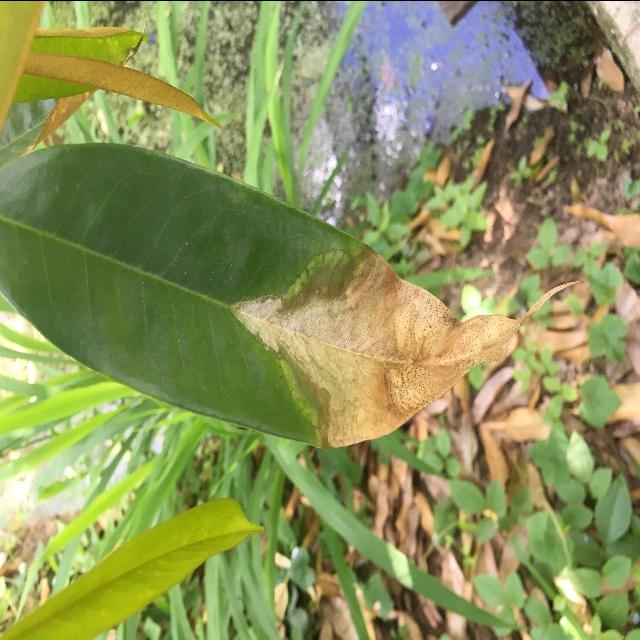Leaf Blight: (0, 135, 526, 453)
